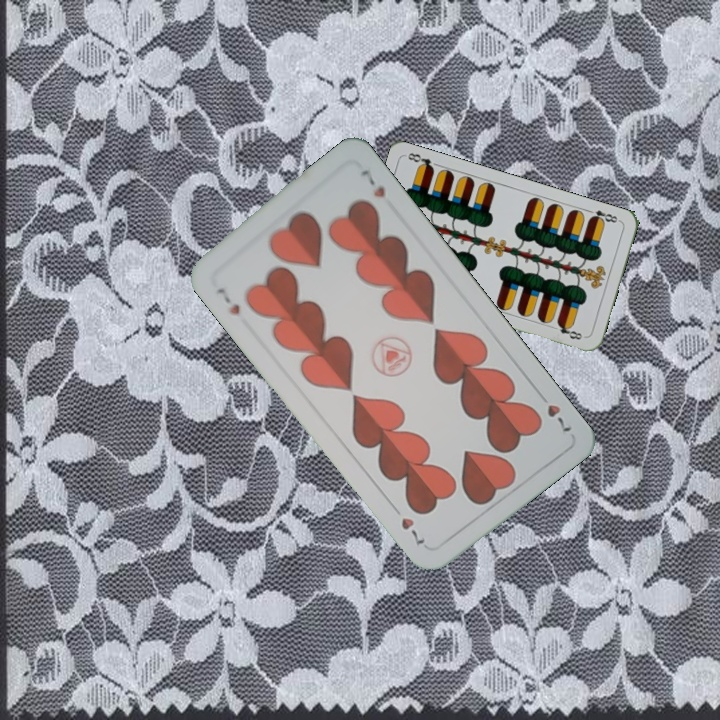E8: (583, 206, 623, 226)
H7: (533, 387, 575, 435), (212, 284, 243, 318)
